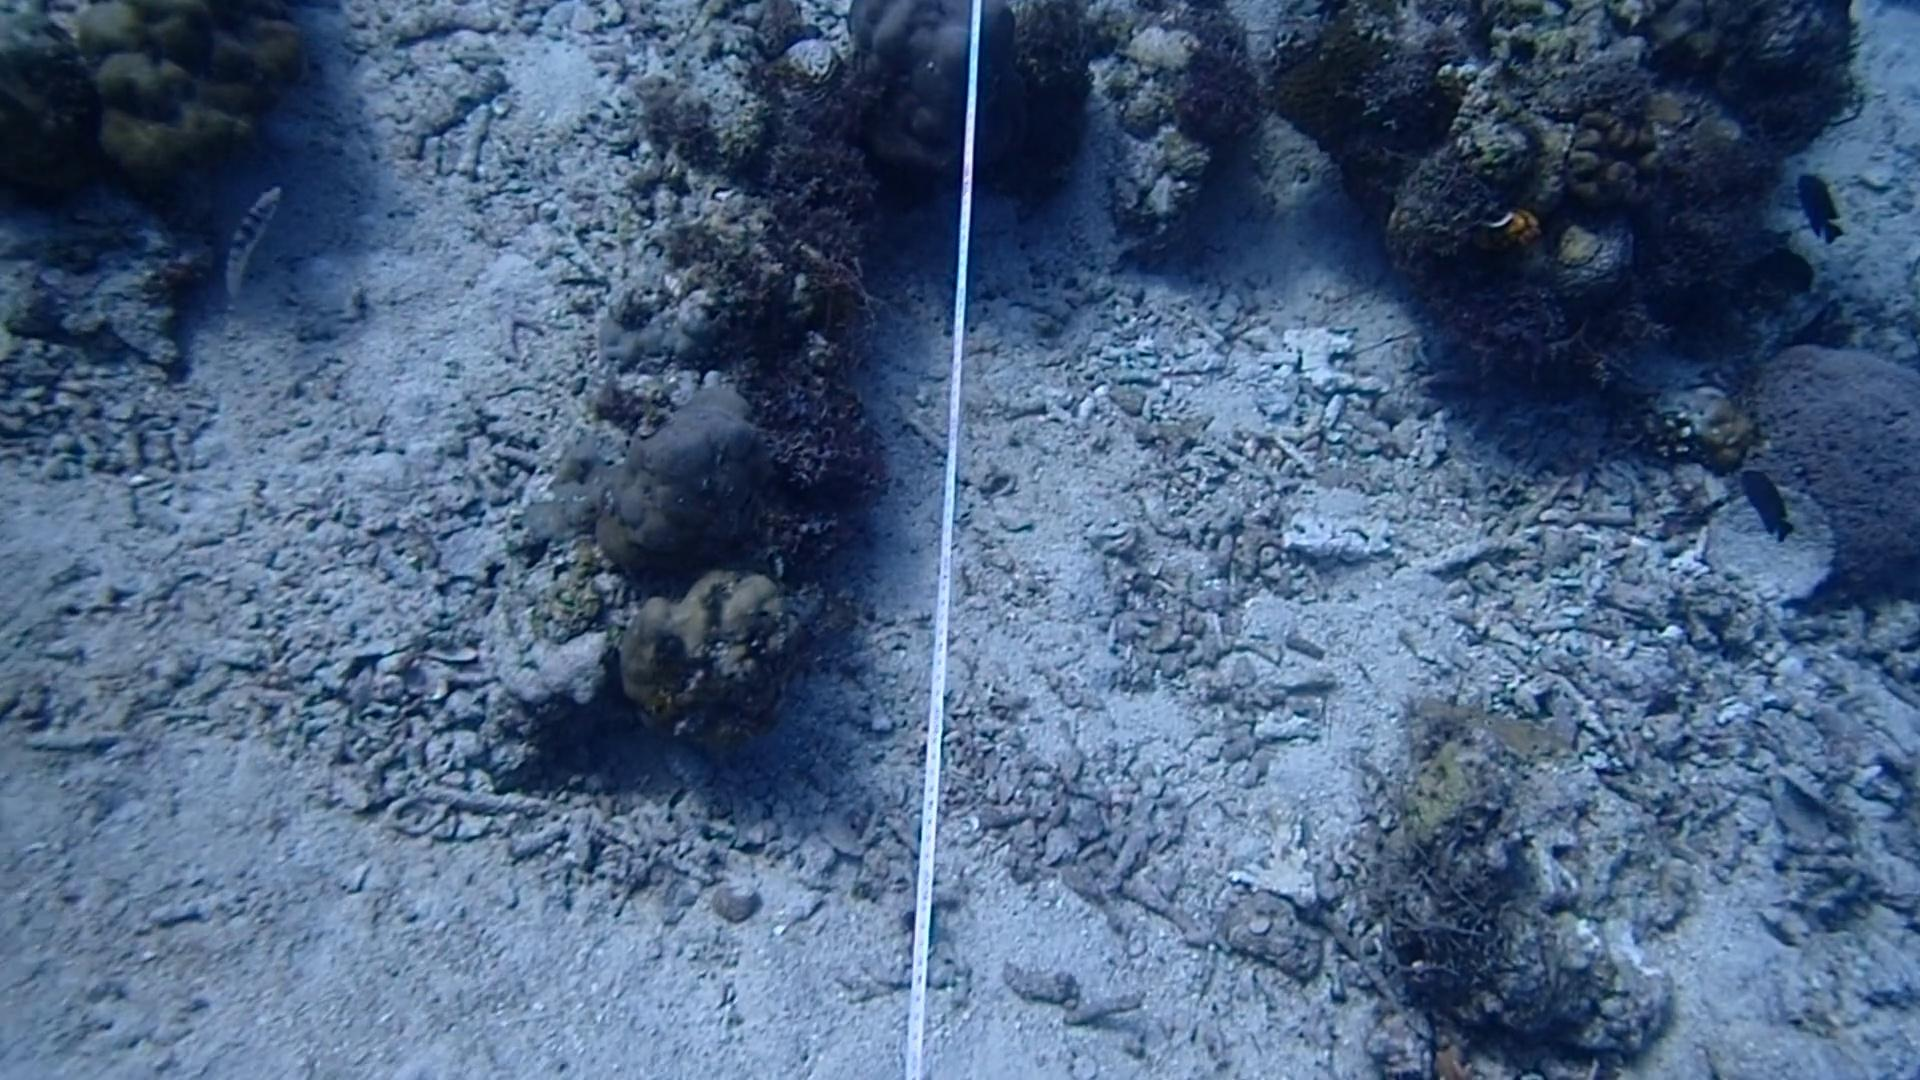Dark Fish: (1735, 220, 1837, 314), (1783, 154, 1857, 257), (1731, 454, 1809, 549)
Light Fish w Back Stripes: (203, 174, 291, 310)
